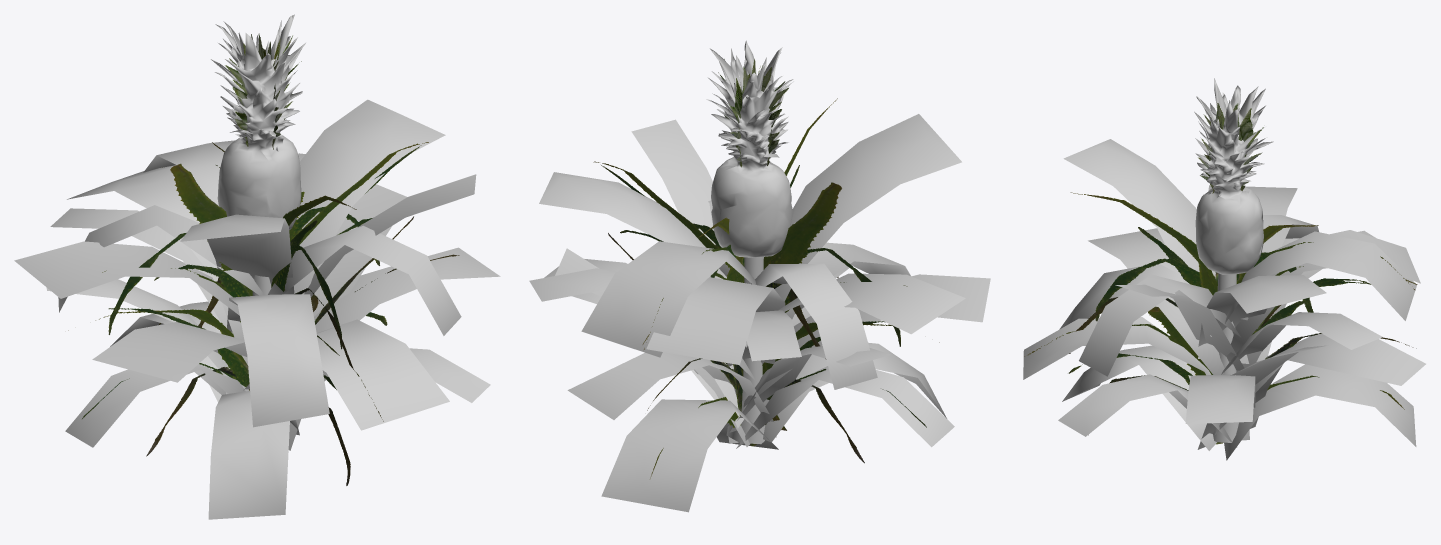
The model's file is Pineapple1.fbx.
The picture shows the model from 3 angles, left to right: view 1: azimuth 30°, elevation 25°; view 2: azimuth 150°, elevation 25°; view 3: azimuth 270°, elevation 25°; orthographic projection. The views are drawn at different scales.
Parts seen in each view (by area): view 1: LOD0, Billboard; view 2: LOD0, Billboard; view 3: LOD0, Billboard.
Boxes of the visible parts, x1,y1,x2,y2 form: LOD0: (14, 14, 500, 519); Billboard: (68, 33, 459, 485); LOD0: (529, 40, 990, 512); Billboard: (593, 58, 939, 478); LOD0: (1023, 78, 1425, 460); Billboard: (1024, 103, 1417, 444).
Size of what is drawn, in the model's own units: 127 by 120 by 123.
